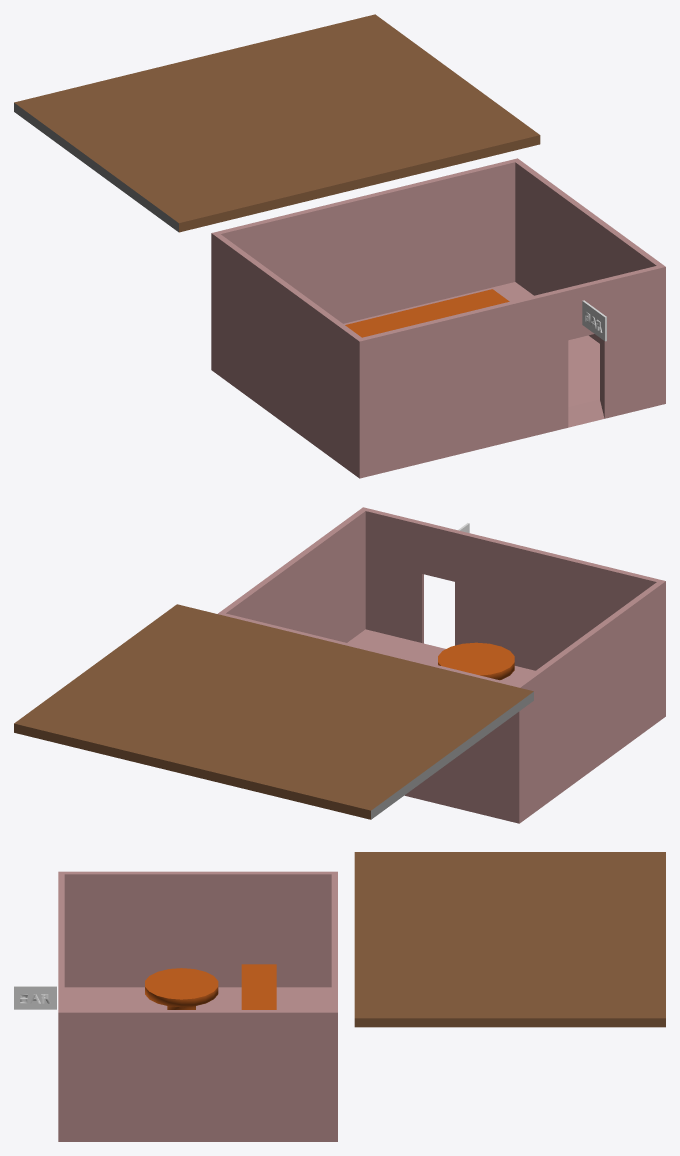
Rendered from BoxBar01.FBX.
3 renders of one model, top to bottom at view 1: azimuth 30°, elevation 25°; view 2: azimuth 150°, elevation 25°; view 3: azimuth 270°, elevation 25°, orthographic. The views are drawn at different scales.
Visible parts, largest first — view 1: Bar01, Bar_Roof01; view 2: Bar01, Bar_Roof01; view 3: Bar01, Bar_Roof01, SignBoard002.
Part boxes in pixels (x1=…): Bar01: x1=211, y1=158, x2=665, y2=478; Bar_Roof01: x1=14, y1=14, x2=540, y2=232; Bar01: x1=218, y1=507, x2=665, y2=823; Bar_Roof01: x1=14, y1=604, x2=533, y2=819; Bar01: x1=58, y1=871, x2=337, y2=1141; Bar_Roof01: x1=354, y1=852, x2=665, y2=1027; SignBoard002: x1=14, y1=986, x2=56, y2=1009.
Bounding box in the file's own units: 98.16 × 37.95 × 163.
